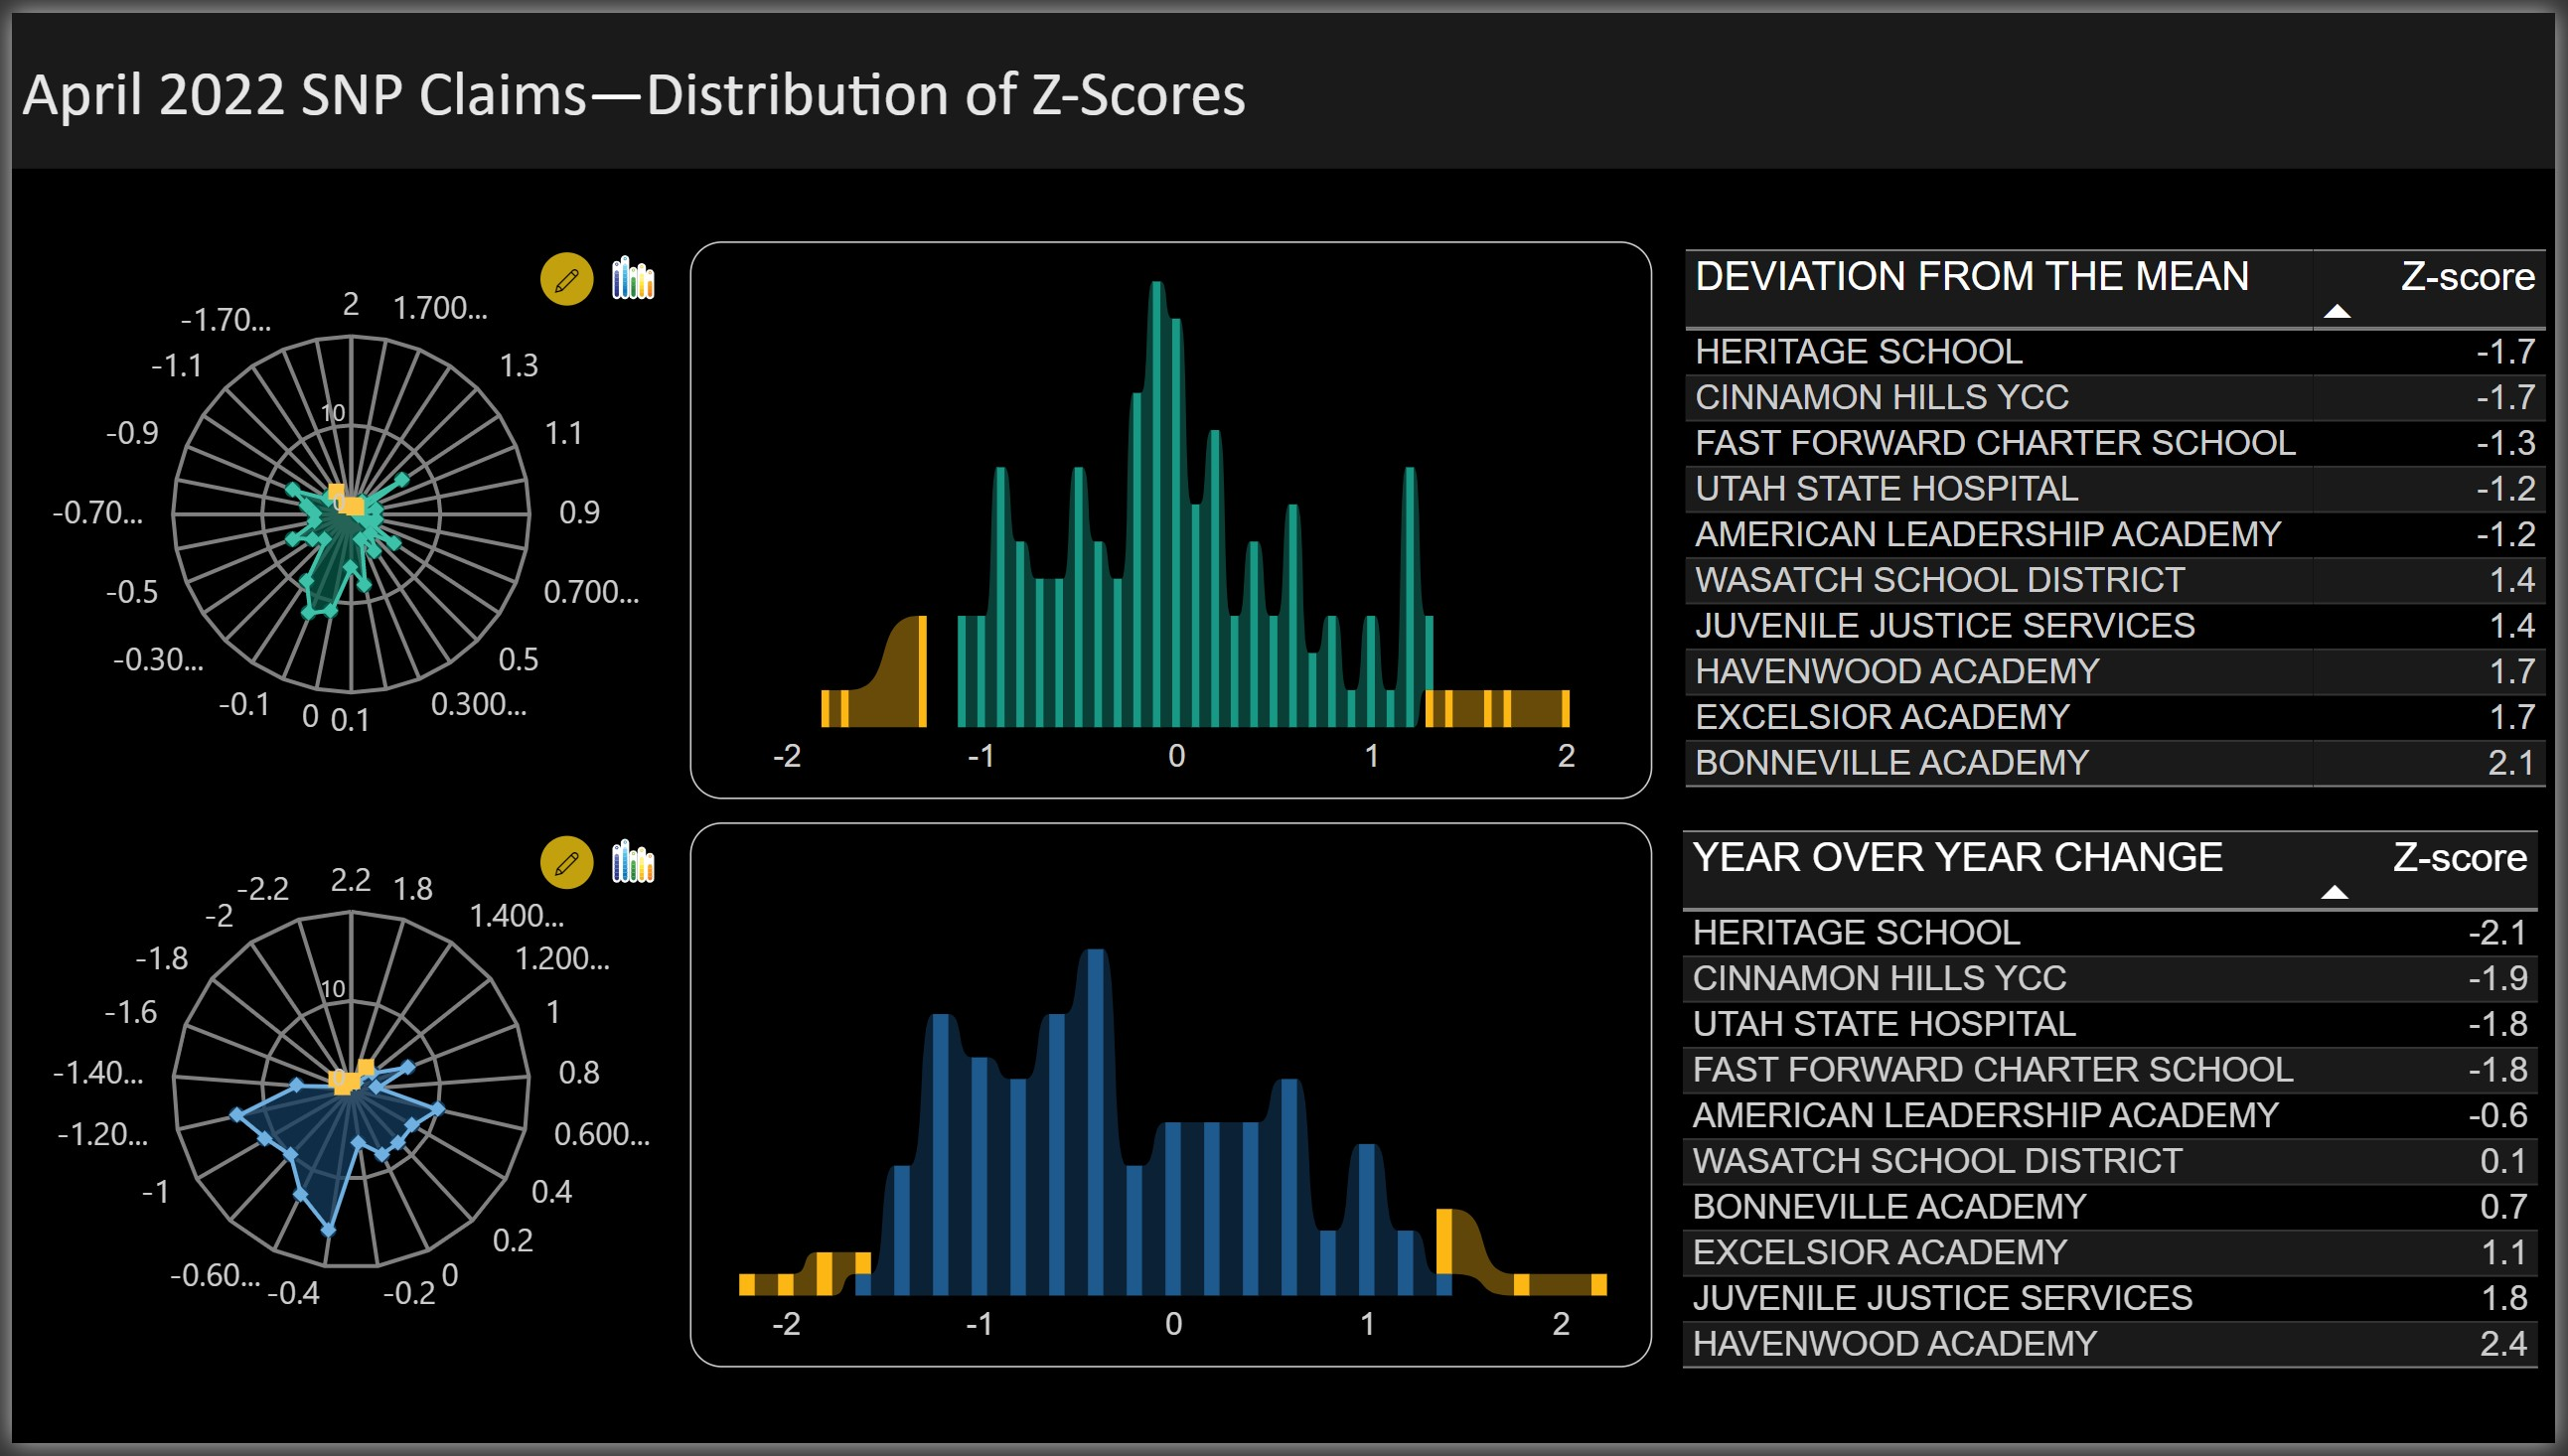

This screenshot's page, from the dashboard's own definition file:
{"tool":"tableau","page":{"name":"Distributions","canvas":[900,500],"ordinal":1},"visuals":[{"type":"text","box":[9,9,882,28]},{"type":"worksheet","title":"Sheet 1","mark":"Automatic","rows":["List By Name.x (copy)_692991420351942658"],"box":[9,37,540.8,212.9]},{"type":"worksheet","title":"Sheet 6 (2)","mark":"Circle","cols":["Z Score Mean"],"box":[549.8,37,341.2,53.6]},{"type":"worksheet","title":"Sheet 3","mark":"Automatic","rows":["Z Score Mean"],"cols":["Z Score Mean (bin)"],"box":[549.8,90.7,341.2,159.3]},{"type":"text","box":[9,250,882,29.7]},{"type":"worksheet","title":"Sheet 2","mark":"Automatic","rows":["List By Name.x (copy)_692991420351942658"],"box":[9,279.7,540,211.3]},{"type":"worksheet","title":"Sheet 6","mark":"Circle","cols":["Z Score Yoy"],"box":[549,279.7,342,52.8]},{"type":"worksheet","title":"Sheet 5","mark":"Automatic","rows":["Z Score Yoy"],"cols":["Z Score Yoy (bin)"],"box":[549,332.5,342,158.5]}]}

Visuals, with their boxes in screenshot pixels (x1, y1, x2, y2), scaled from the page's 900x500 canvas onto the 2568x1456 screenshot:
text: 26,26,2542,107
"Sheet 1" worksheet: 26,107,1569,728
"Sheet 6 (2)" worksheet (Circle marks): 1569,107,2542,264
"Sheet 3" worksheet: 1569,264,2542,728
text: 26,728,2542,814
"Sheet 2" worksheet: 26,814,1567,1430
"Sheet 6" worksheet (Circle marks): 1567,814,2542,968
"Sheet 5" worksheet: 1567,968,2542,1430
